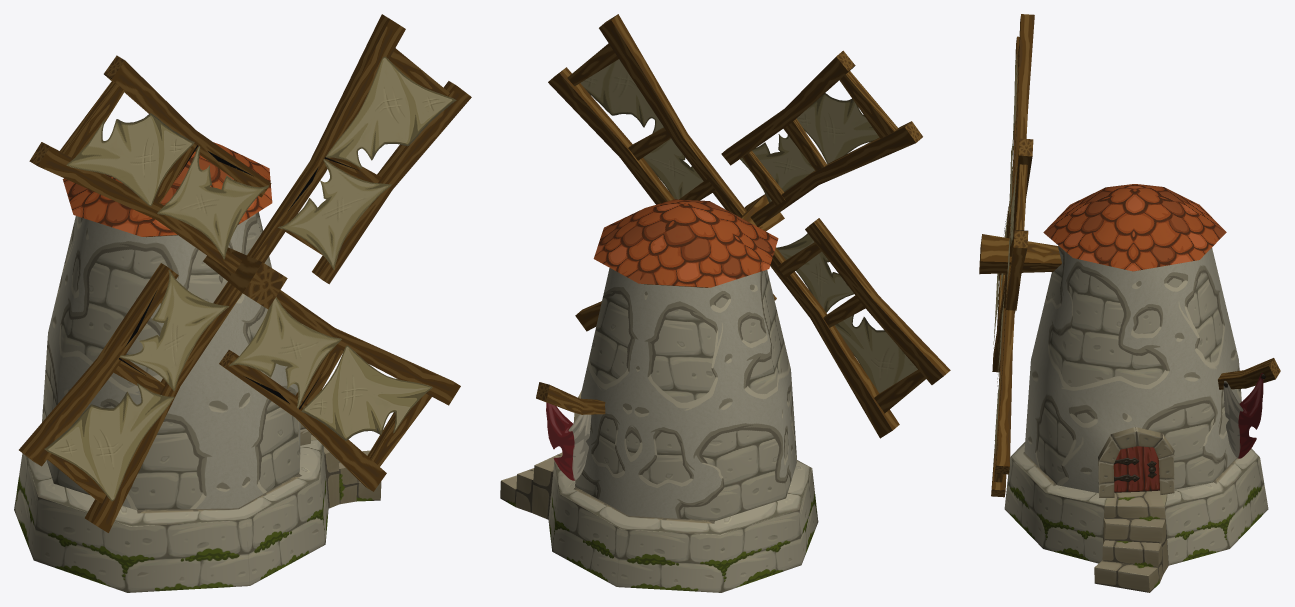
File: windmill.FBX
The picture shows the model from 3 angles, left to right: view 1: azimuth 30°, elevation 25°; view 2: azimuth 150°, elevation 25°; view 3: azimuth 270°, elevation 25°; orthographic projection. The views are drawn at different scales.
Parts seen in each view (by area): view 1: windmill_blades, windmill; view 2: windmill, windmill_blades; view 3: windmill, windmill_blades.
Part boxes in pixels (box(x1,y1,x2,y2)): windmill_blades: box(19, 14, 471, 532); windmill: box(14, 142, 381, 592); windmill: box(500, 199, 818, 592); windmill_blades: box(548, 14, 950, 438); windmill: box(1004, 184, 1280, 592); windmill_blades: box(979, 14, 1061, 497).
Bounding box in the file's own units: 103 × 119 × 72.29.
